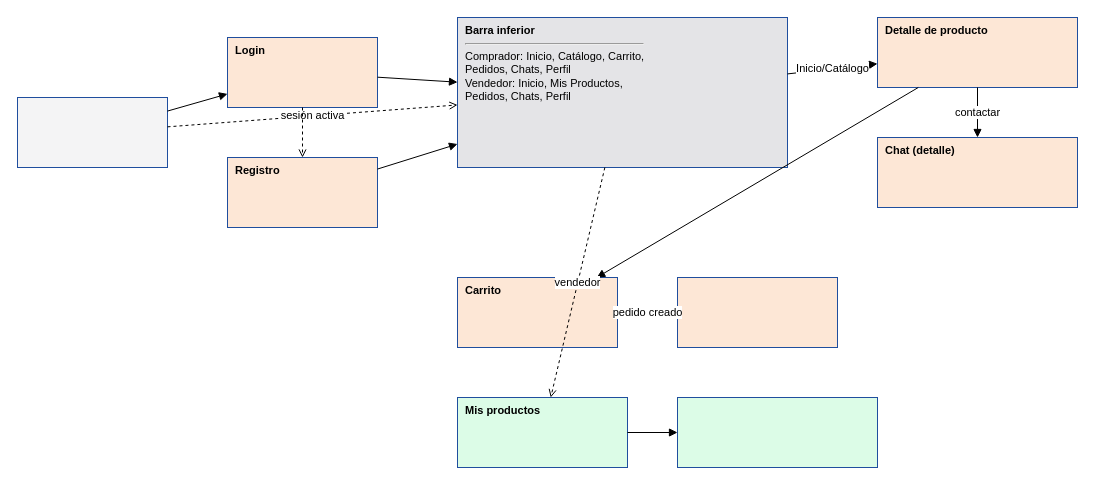
Some shapes in this 1095 by 485 pixel diagram are drawn without their labels. Each missing label, with the centre of its shape:
"Agregar / Editar" goes at (777,432).
"Pedidos" goes at (757,312).
"Splash" goes at (92,132).
